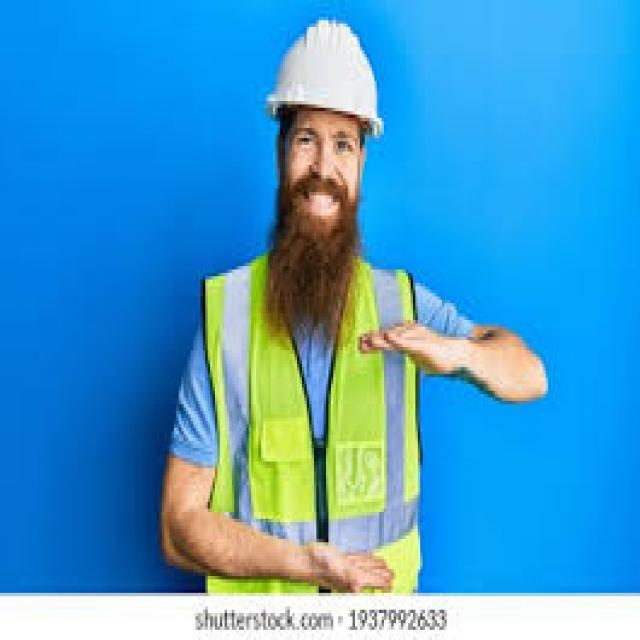Reflective-Jacket: (193, 252, 435, 592)
Safety-Helmet: (264, 13, 386, 135)
